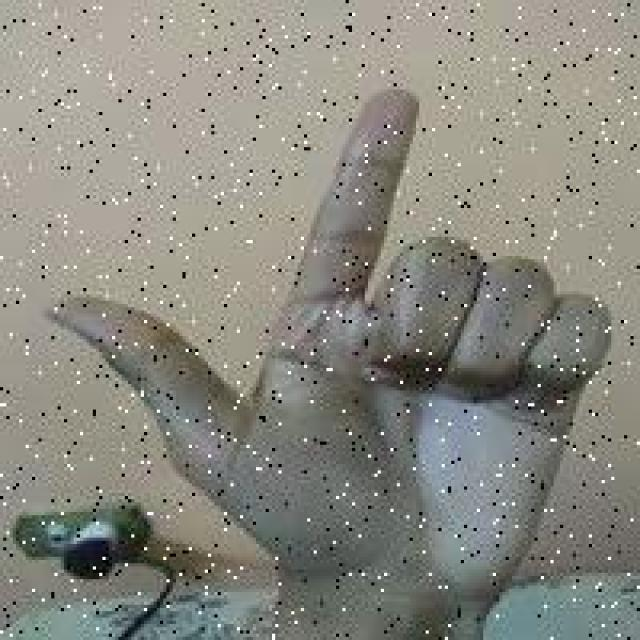L: (45, 82, 608, 584)
